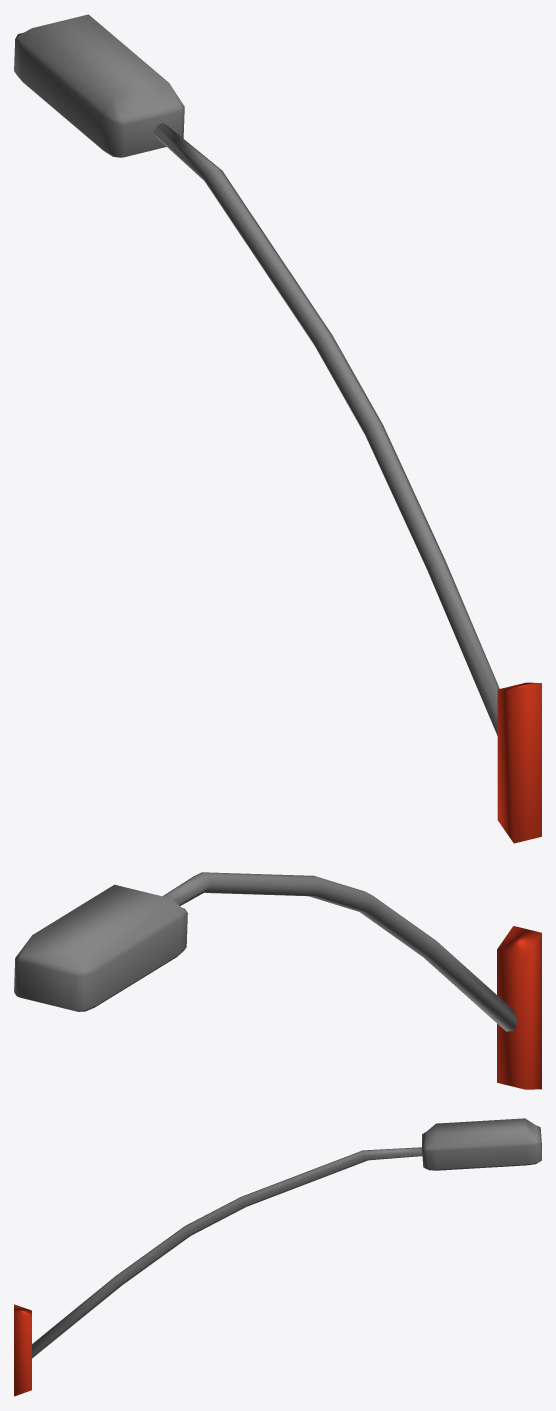
The model's file is lamp.glb.
3 views of the same model, one above another, from view 1: azimuth 30°, elevation 25°; view 2: azimuth 150°, elevation 25°; view 3: azimuth 270°, elevation 25° (orthographic). The views are drawn at different scales.
Visible parts, largest first — view 1: Lamp_LampBase_0; view 2: Lamp_LampBase_0; view 3: Lamp_LampBase_0.
Boxes of the visible parts, x1,y1,x2,y2 form: Lamp_LampBase_0: [14, 14, 541, 843]; Lamp_LampBase_0: [14, 872, 541, 1089]; Lamp_LampBase_0: [14, 1118, 541, 1396].
Size of the model in its own units: 17.02 by 104 by 187.
1 material, 1 textured.
